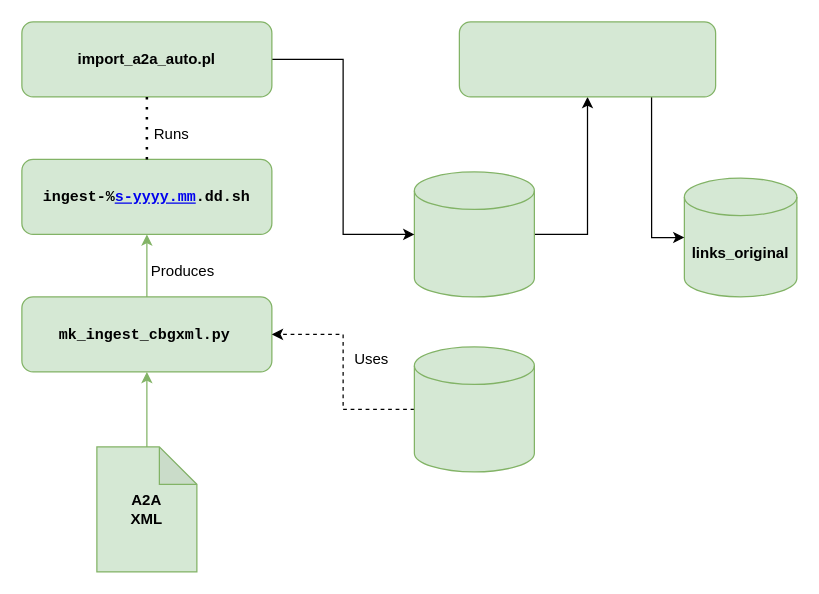
Some shapes in this 819 by 594 pixel diagram are drawn without their labels. The centre of each missing label's shape, as x and y in pixels:
a2_to_original.py: pixel 587 59
links_a2a: pixel 473 234
links_general: pixel 473 409
